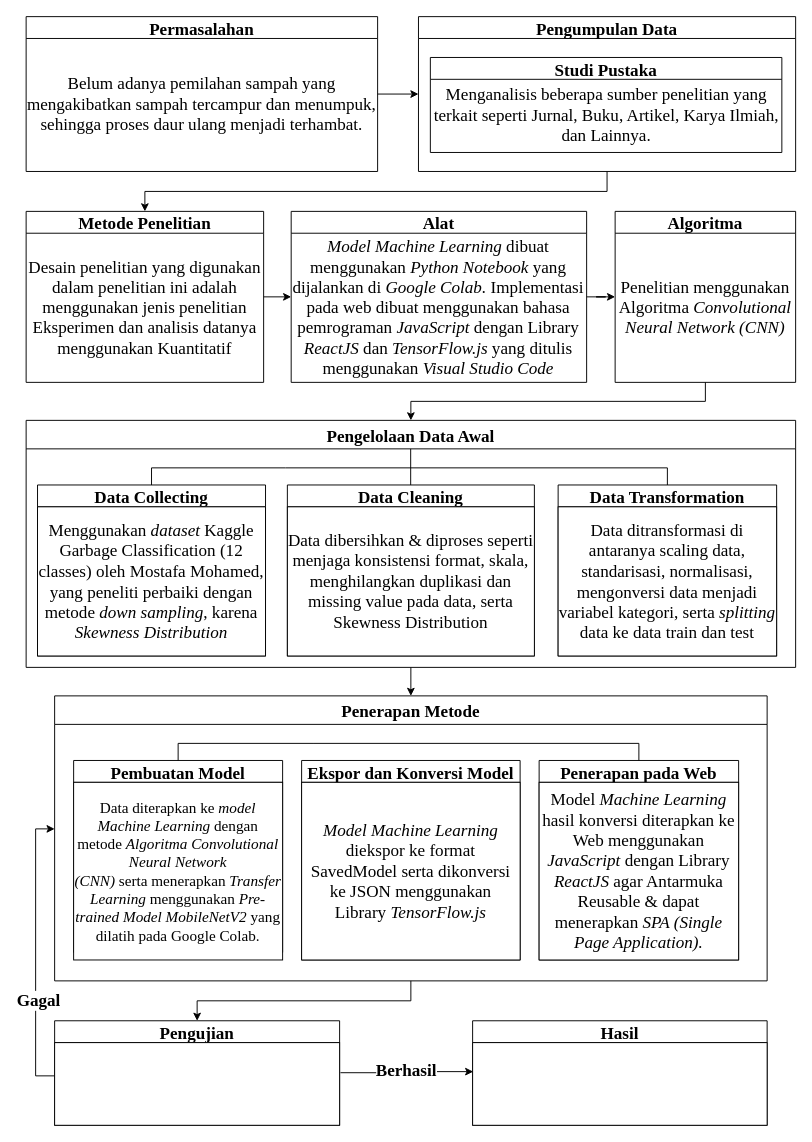
The diagram is 812 pixels wide and 1142 high, and some of its shapes have lost their labels. The shapes that lost their labels are listed below. From the top down, each one's centre as x and y in pixels, then its label:
At point (197, 1083): "Aplikasi diuji menggunakan Pengujian Black Box, dan Angket Responden".
At point (619, 1083): "Aplikasi Image Classification pemilahan jenis Sampah berbasis Web".
